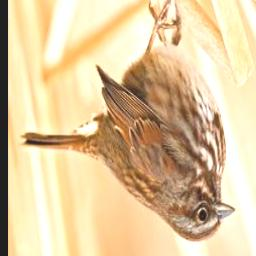Sparrow: (20, 0, 237, 244)
